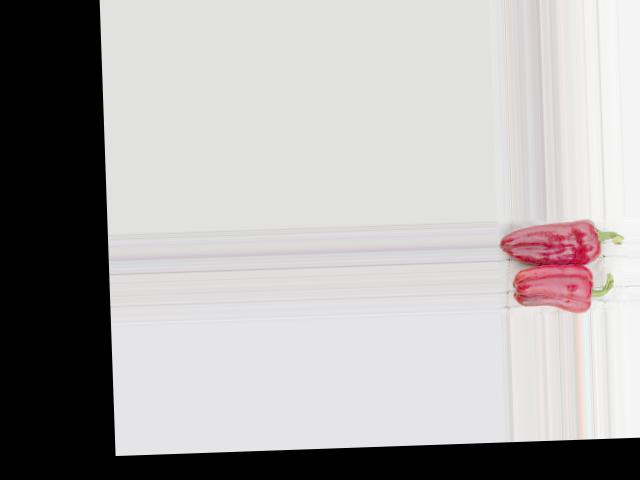bell_pepper: (499, 218, 628, 268)
